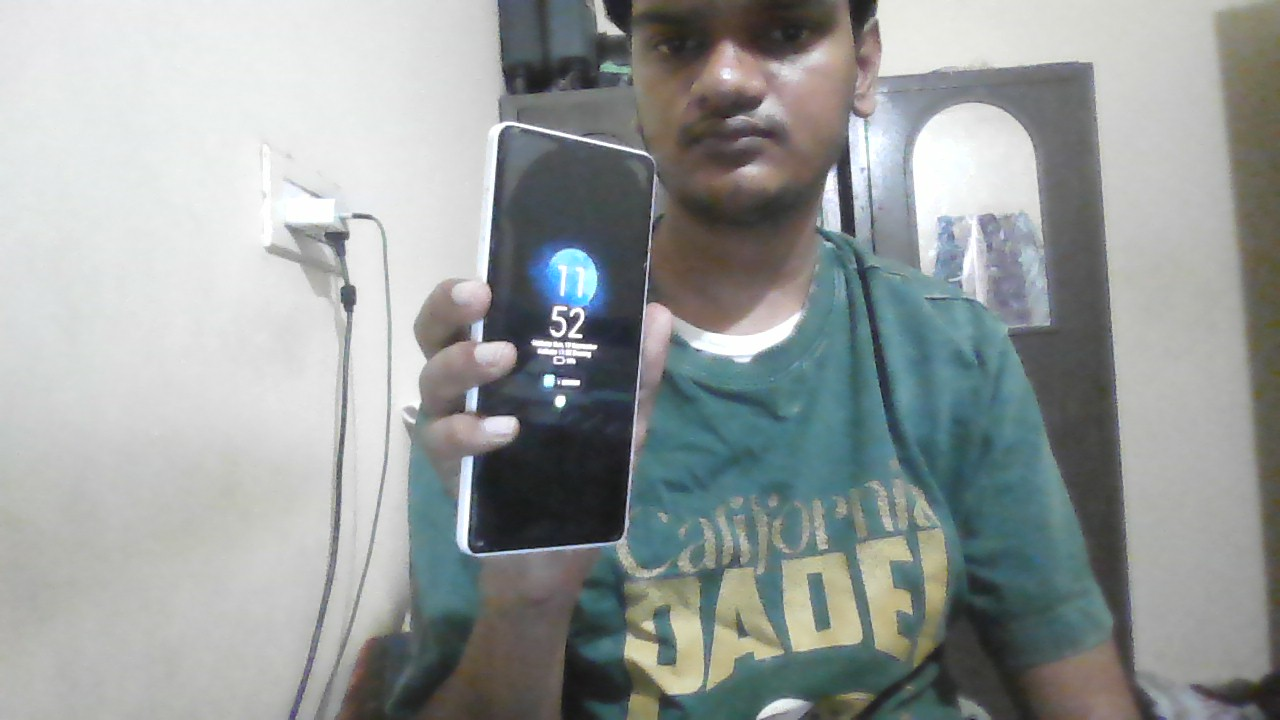phone: (467, 124, 635, 538)
